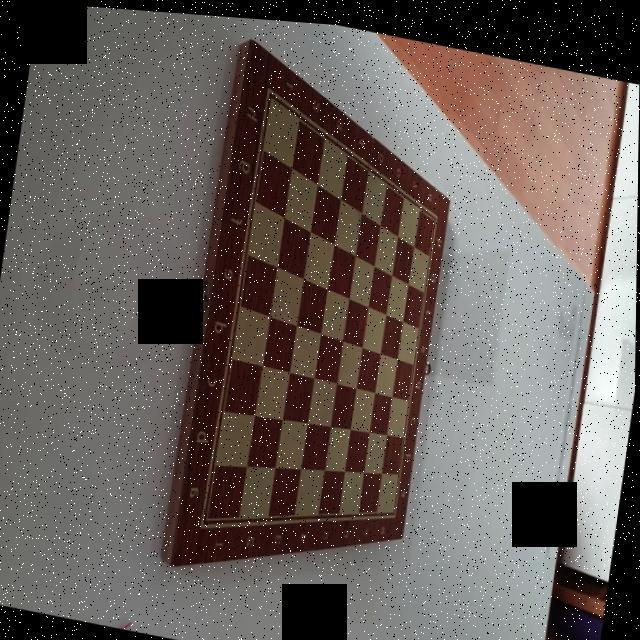chess-table-corners: (197, 507, 215, 531), (426, 203, 442, 222), (262, 82, 277, 101), (388, 500, 400, 514)
